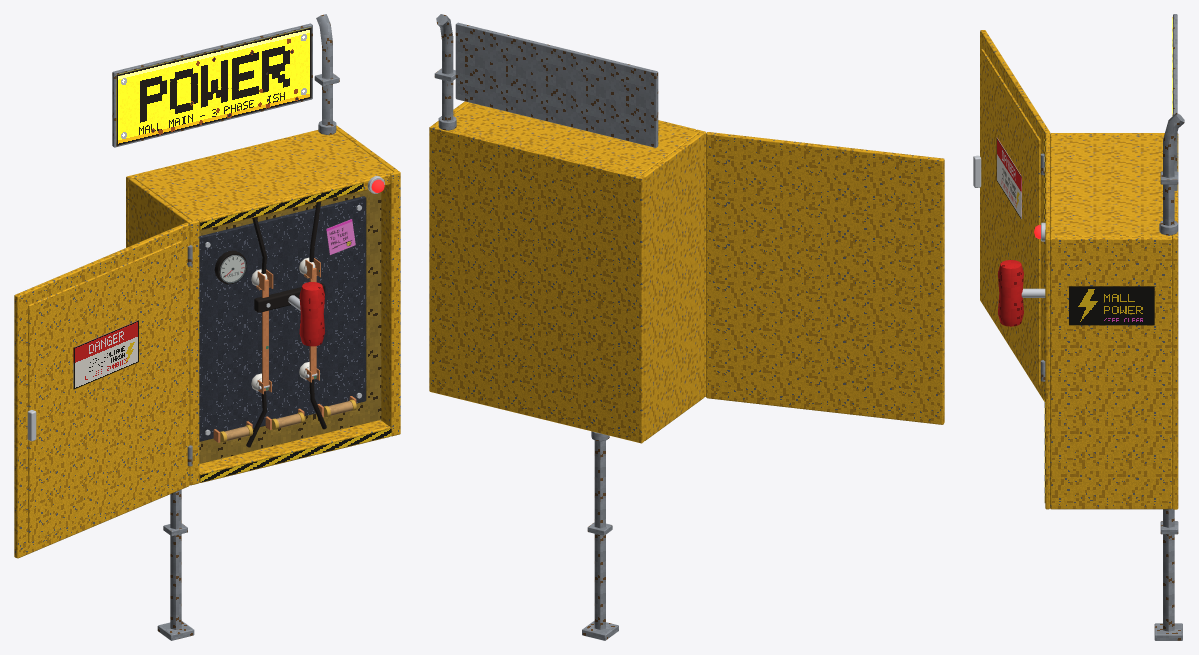
Rendered from x_zmpower.glb.
3 renders of one model, left to right at view 1: azimuth 30°, elevation 25°; view 2: azimuth 150°, elevation 25°; view 3: azimuth 270°, elevation 25°, orthographic. The views are drawn at different scales.
Parts seen in each view (by area): view 1: cabinet, lever; view 2: cabinet; view 3: cabinet, lever.
Part boxes in pixels (x1,y1,x2,y2): cabinet: (14,14,400,640); lever: (254,267,325,391); cabinet: (429,14,944,640); cabinet: (973,14,1184,640); lever: (998,260,1045,326).
Size of the model in its own units: 2.09 by 2.78 by 0.8909.
15 materials, 9 textured.
